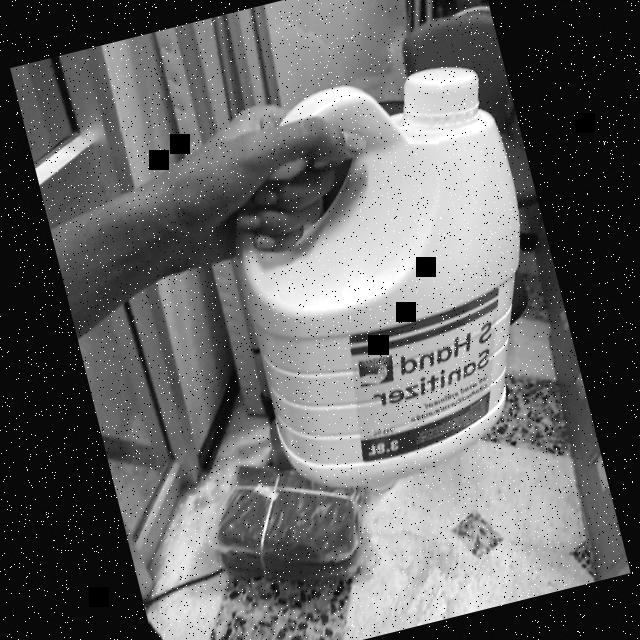chemical_plastic_gallon: (198, 54, 574, 502)
